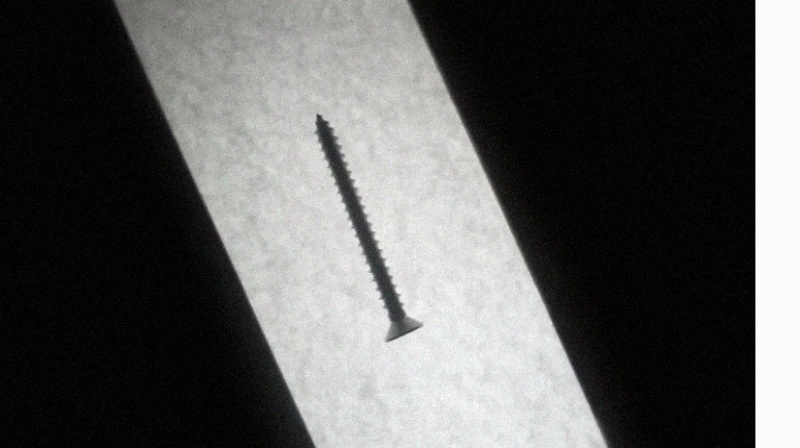S002: (312, 111, 428, 345)
